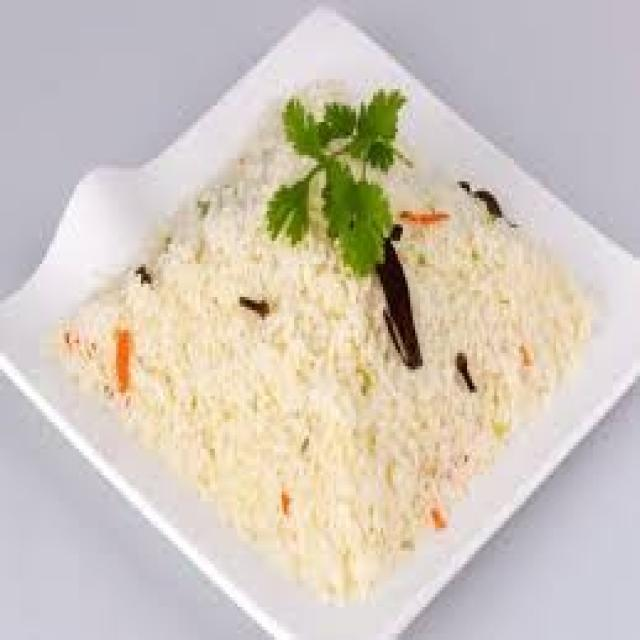nei satham: (59, 80, 614, 598)
